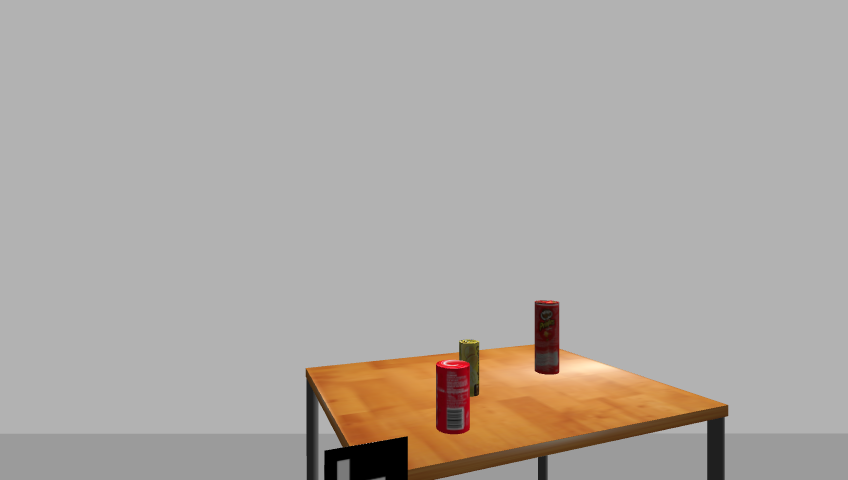aruco marker: (321, 436, 413, 480)
biscuits pack: (457, 338, 480, 402)
coke can: (434, 361, 472, 435)
dinner table: (294, 347, 736, 480)
pringles can: (532, 300, 561, 377)
